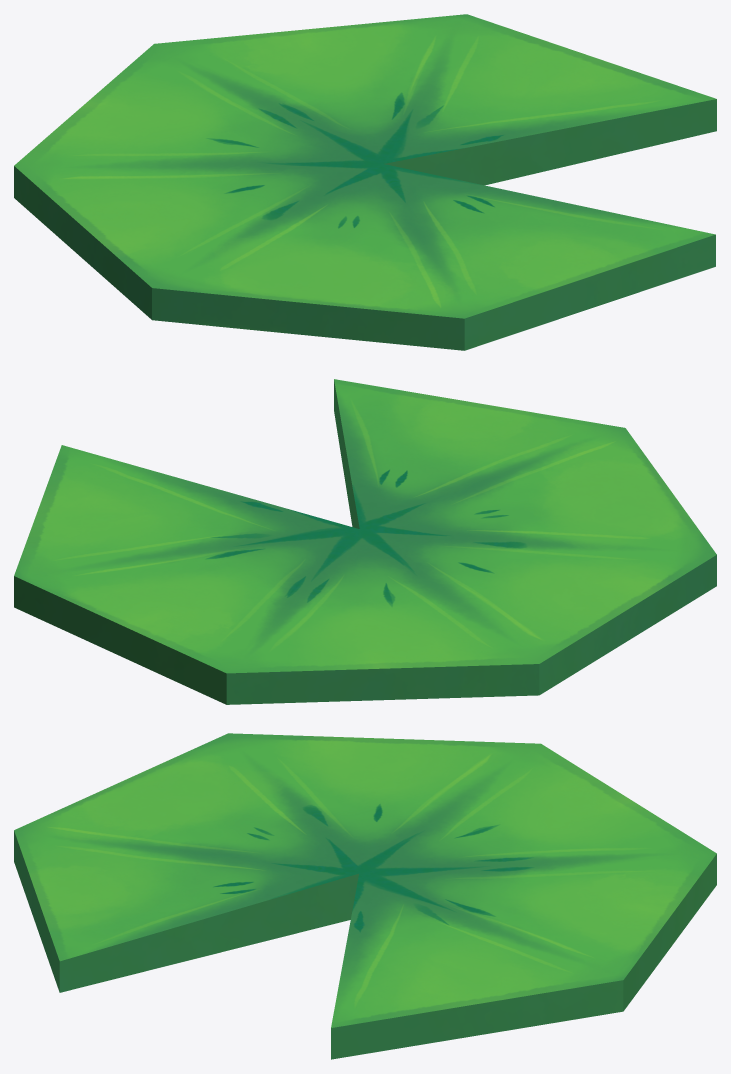
Rendered from lilypad.glb.
3 views of the same model, one above another, from view 1: azimuth 30°, elevation 25°; view 2: azimuth 150°, elevation 25°; view 3: azimuth 270°, elevation 25° (orthographic). The views are drawn at different scales.
Parts seen in each view (by area): view 1: lily_pad; view 2: lily_pad; view 3: lily_pad.
Part boxes in pixels (box(x1,y1,x2,y2)): lily_pad: box(14, 14, 716, 350); lily_pad: box(14, 379, 716, 704); lily_pad: box(14, 733, 716, 1059).
Size of the model in its own units: 0.0441 by 0.00308 by 0.0444.
Materials: 1 (1 with a texture image).
